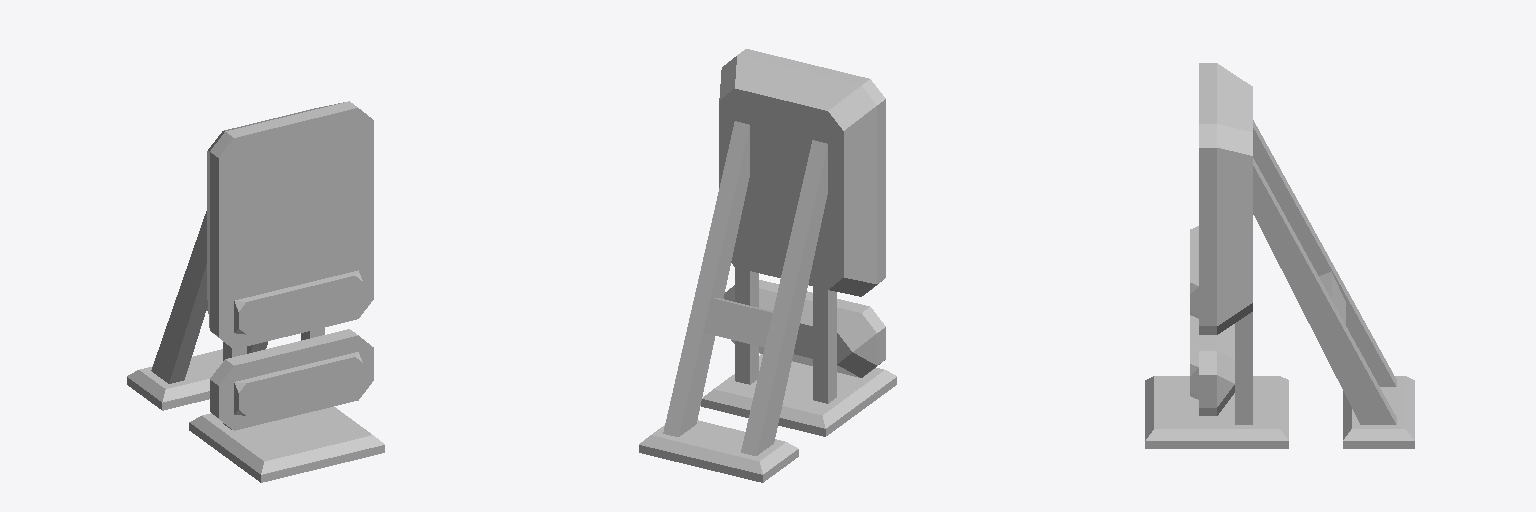
The model's file is target_stand_B.obj.
The picture shows the model from 3 angles: view 1: azimuth 30°, elevation 25°; view 2: azimuth 150°, elevation 25°; view 3: azimuth 270°, elevation 25°; orthographic projection.
Visible parts, largest first — view 1: target_stand_B_Cube.16113; view 2: target_stand_B_Cube.16113; view 3: target_stand_B_Cube.16113.
Part boxes in pixels (x1,y1,x2,y2): target_stand_B_Cube.16113: (127, 101, 384, 482); target_stand_B_Cube.16113: (639, 49, 896, 482); target_stand_B_Cube.16113: (1145, 63, 1414, 448).
Bounding box in the file's own units: 1 × 2 × 1.5.